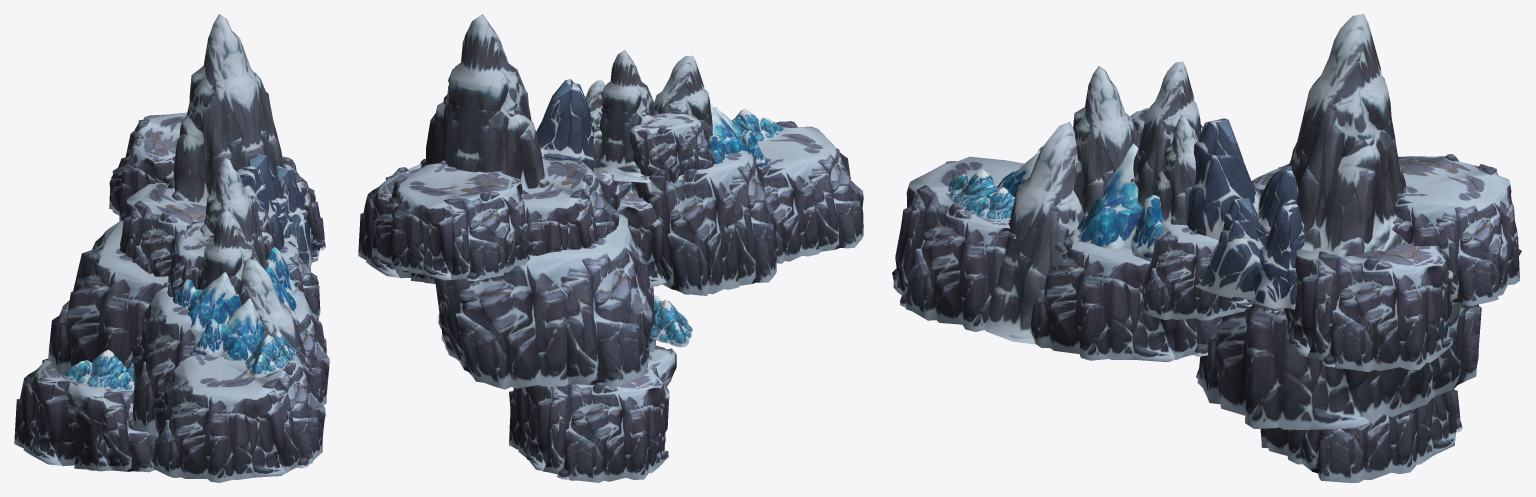
Rendered from yanshi16_1.fbx.
The picture shows the model from 3 angles, left to right: view 1: azimuth 30°, elevation 25°; view 2: azimuth 150°, elevation 25°; view 3: azimuth 270°, elevation 25°; orthographic projection. The views are drawn at different scales.
Parts seen in each view (by area): view 1: yanshi16_1; view 2: yanshi16_1; view 3: yanshi16_1.
Part boxes in pixels (left/top/right/bottom): yanshi16_1: left=14, top=14, right=329, bottom=482; yanshi16_1: left=358, top=14, right=863, bottom=482; yanshi16_1: left=892, top=14, right=1521, bottom=482.
Bounding box in the file's own units: 4521 × 5363 × 6282.
